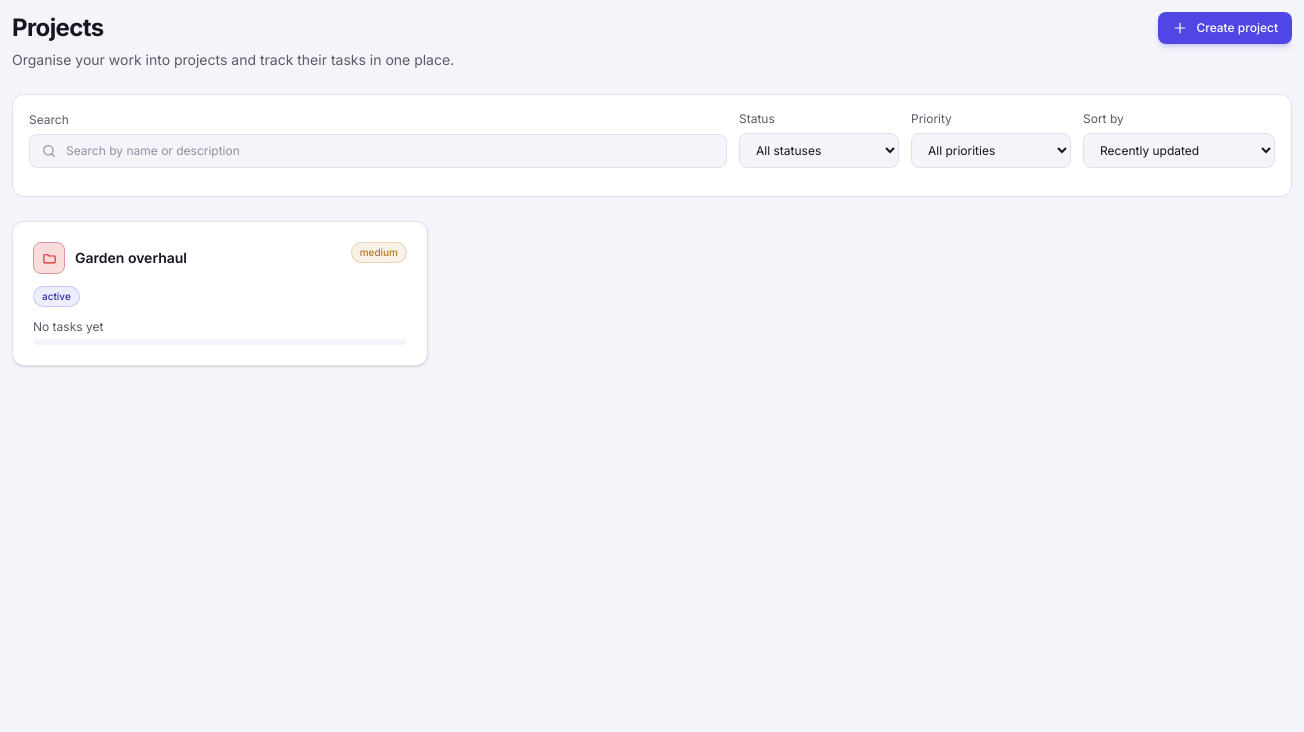
Test: ProjectsPage › shows a no-results state with a clear-filters action when filters match nothing
Expected: the heading "Garden overhaul" is shown, [75, 248, 187, 268]
Type "nonexistent project" into the field named "Search projects" at (378,151), box [29, 134, 727, 168]
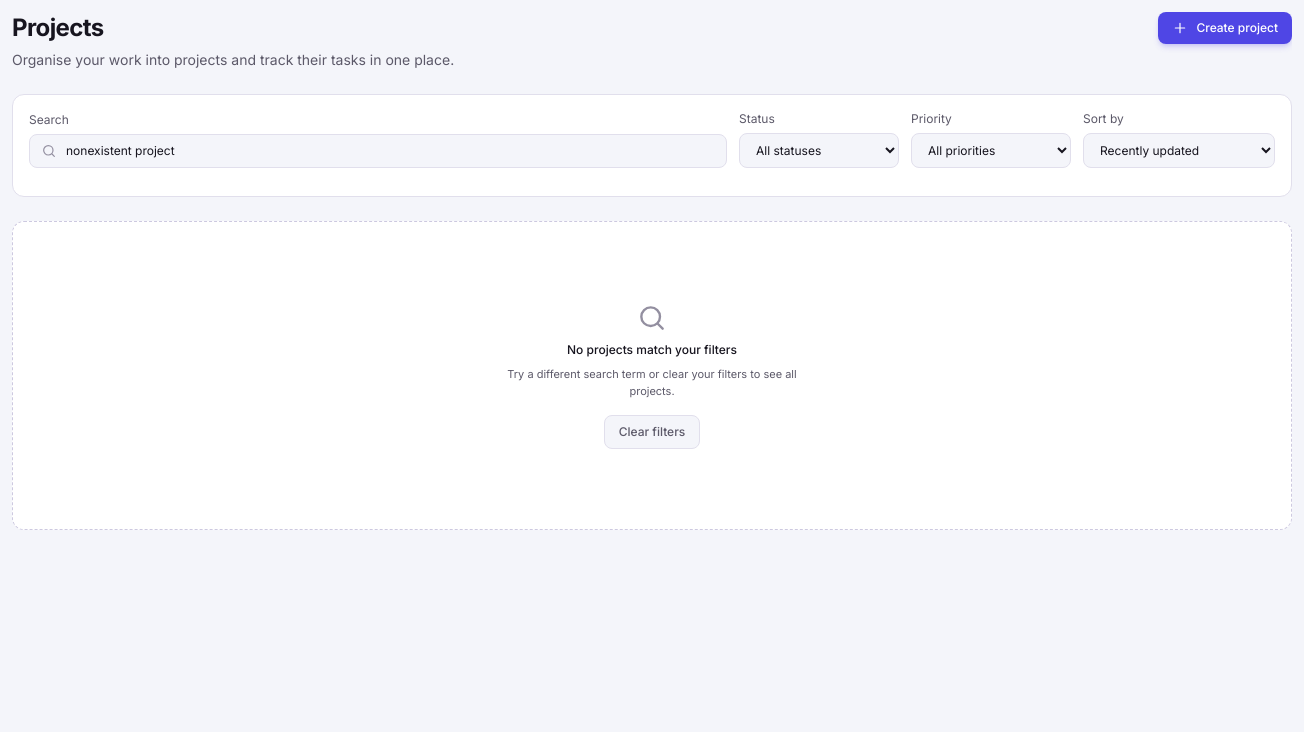
Expected: the text "No projects match your filters" is shown, [567, 342, 737, 358]
Click the button "Clear filters" at (652,432), box [604, 415, 700, 449]
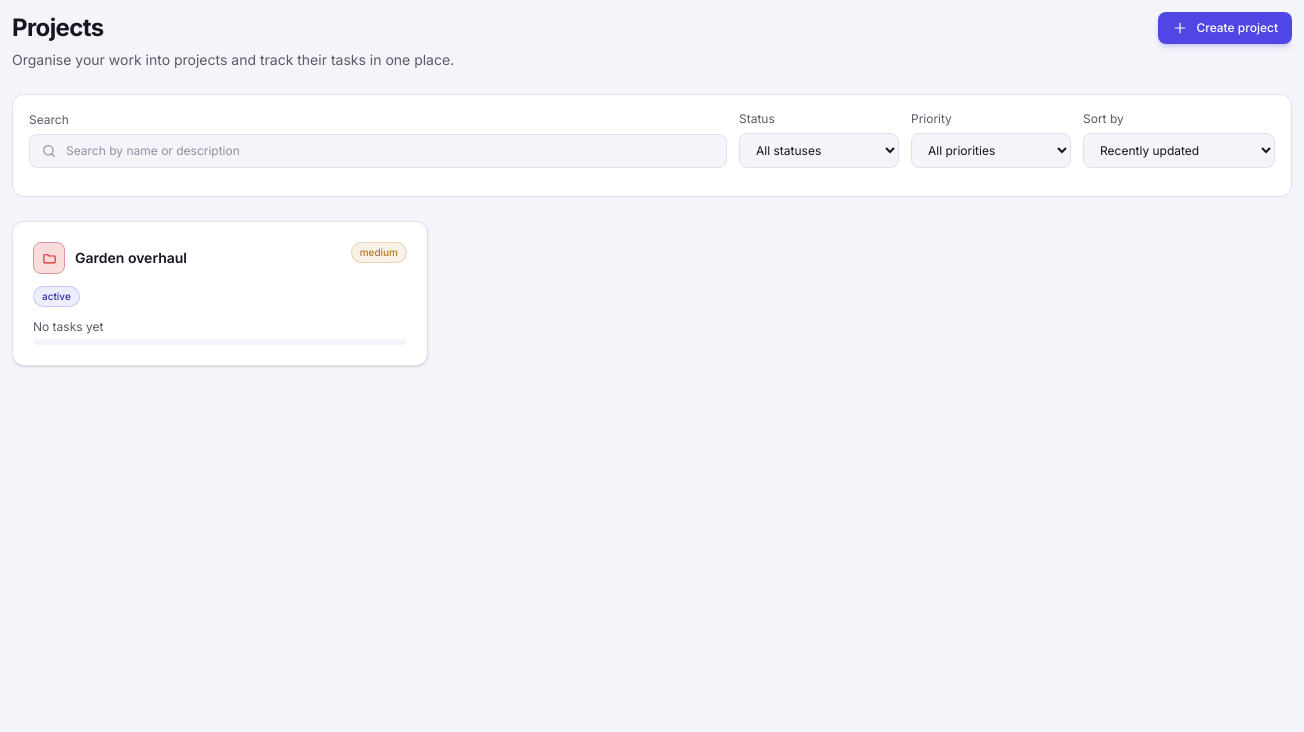
Expected: the heading "Garden overhaul" is shown, [75, 248, 187, 268]
